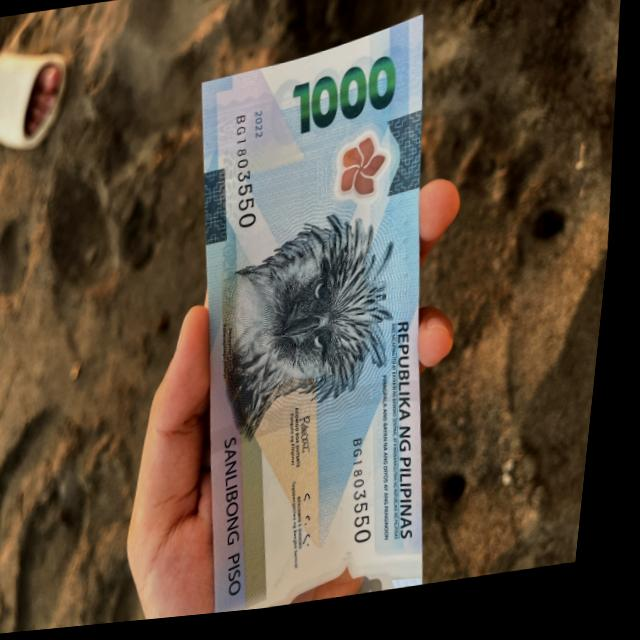eagle: (209, 215, 403, 455)
sampaguita: (328, 124, 403, 229)
